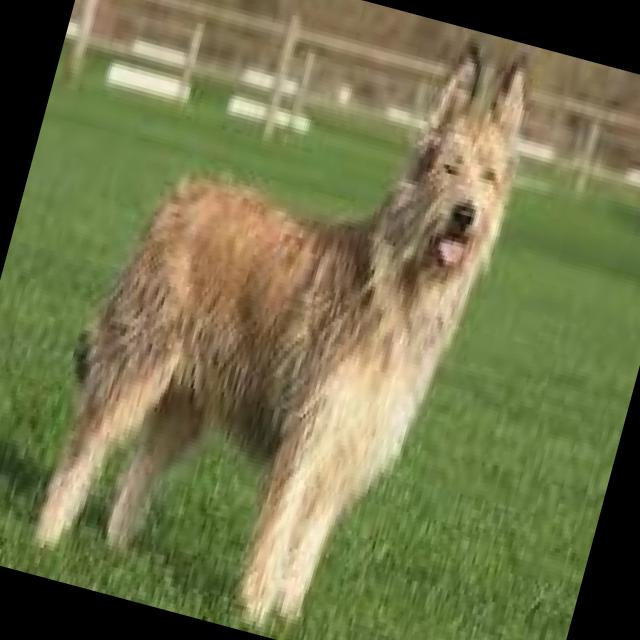Perro: (15, 0, 559, 640)
